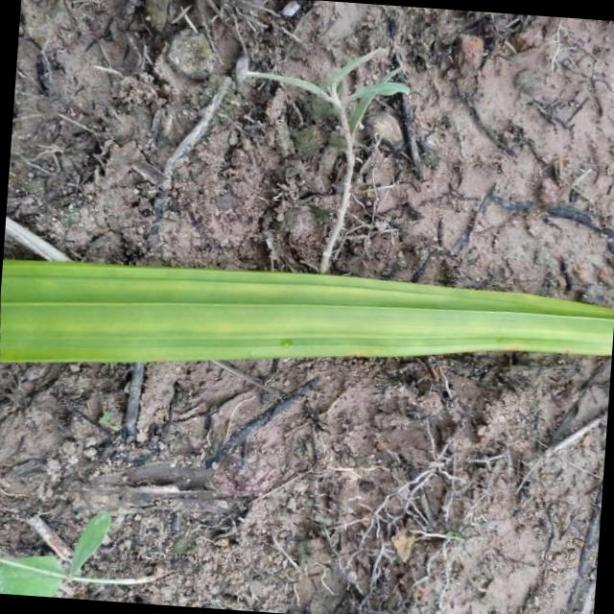nitrogen: (0, 259, 614, 365)
